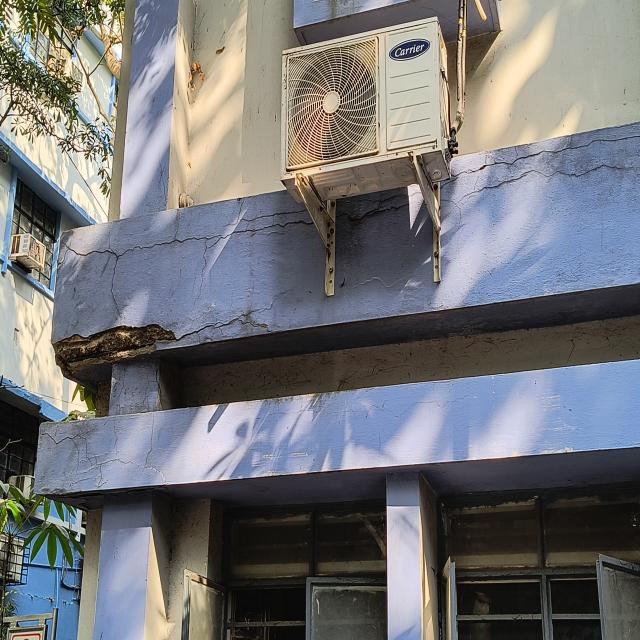Spalling: (53, 325, 176, 361)
